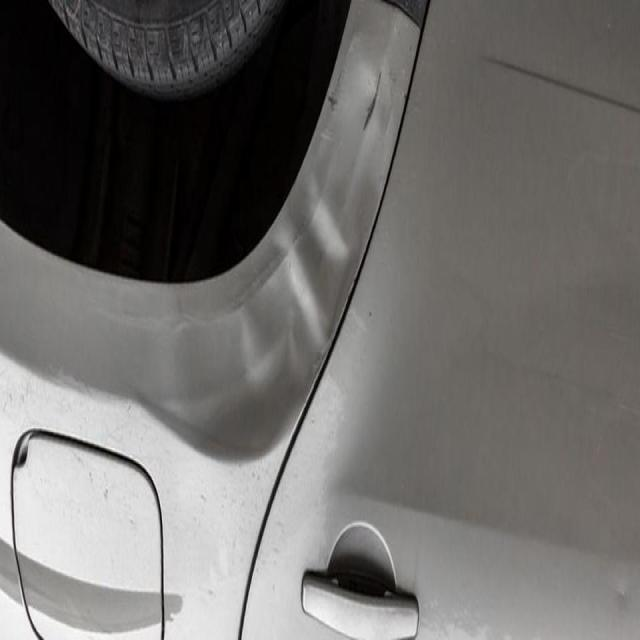dent: (208, 80, 386, 473)
